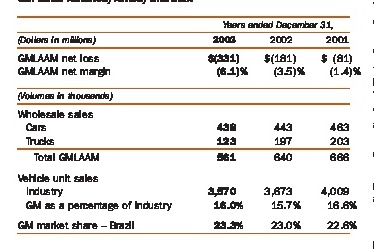table: (0, 0, 374, 250)
